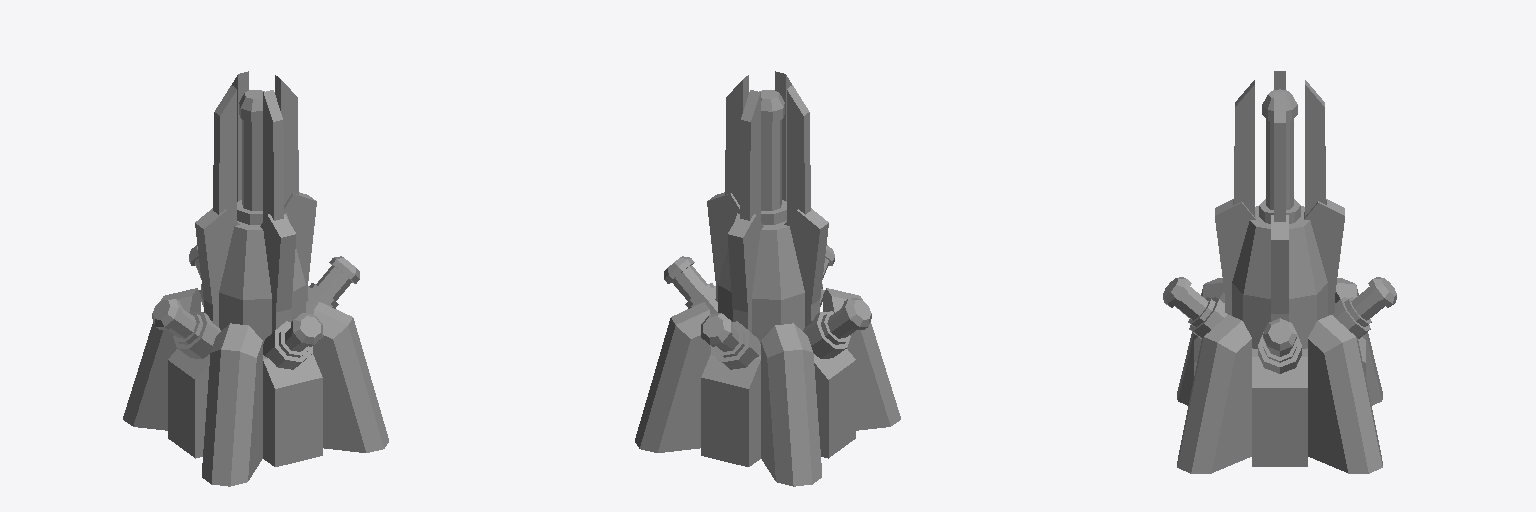
Rendered from EMPtower.obj.
3 views of the same model, side by side, from view 1: azimuth 30°, elevation 25°; view 2: azimuth 150°, elevation 25°; view 3: azimuth 270°, elevation 25° (orthographic).
Parts seen in each view (by area): view 1: Cube; view 2: Cube; view 3: Cube.
Boxes of the visible parts, x1,y1,x2,y2 form: Cube: [123, 71, 388, 486]; Cube: [635, 71, 900, 486]; Cube: [1163, 71, 1396, 473].
Bounding box in the file's own units: 2.89 × 4.75 × 2.89.